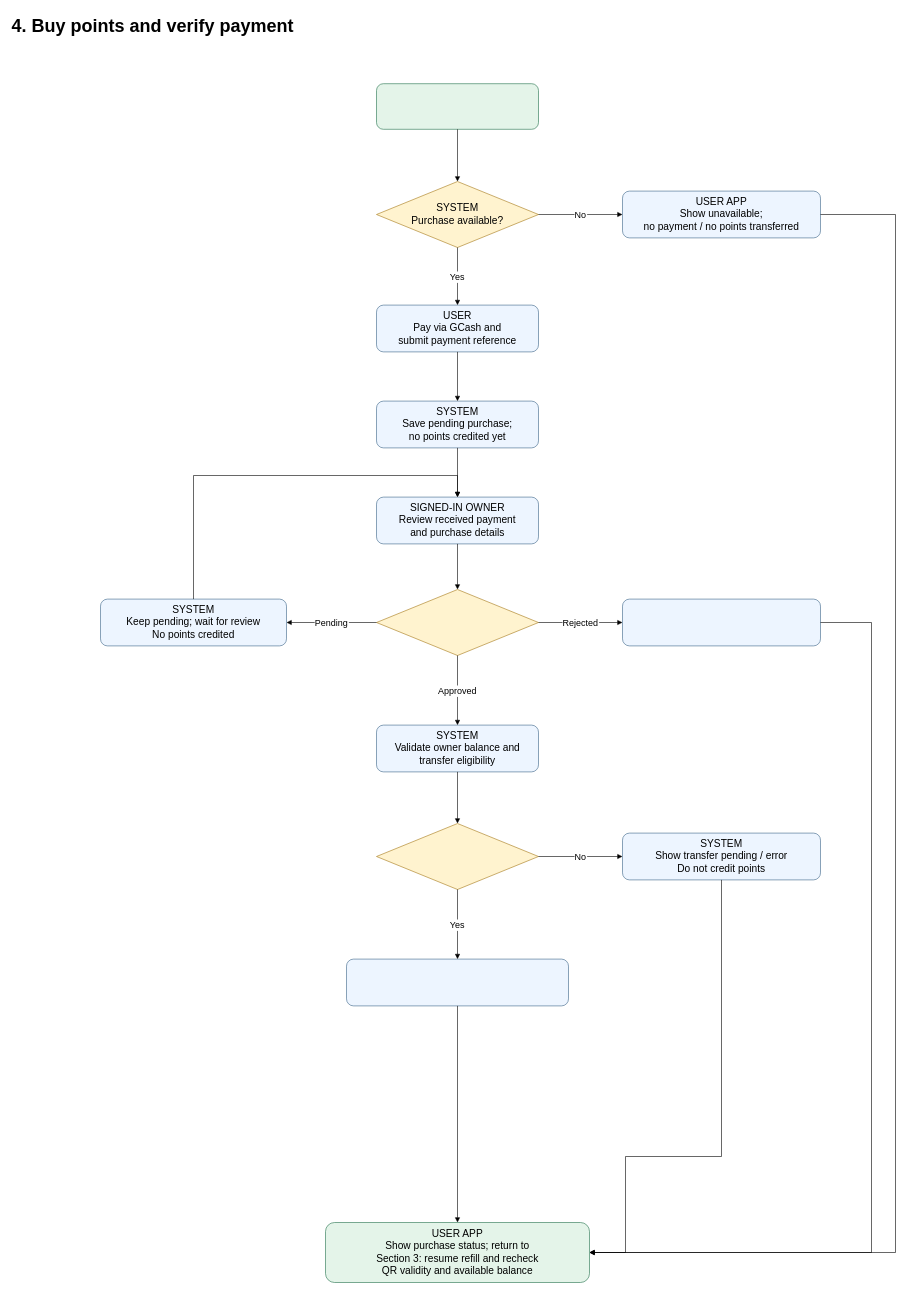
Image size: 914x1293. Some labels were removed from this diagram. Here are the shapes that lost their labels. From the top down, the centre of each, then its label:
At (x=457, y=106): "USER Enter points to purchase".
At (x=457, y=622): "OWNER Review status?".
At (x=721, y=622): "OWNER / SYSTEM Reject payment; notify user No points credited".
At (x=457, y=856): "SYSTEM Transfer allowed?".
At (x=457, y=982): "SYSTEM Transfer owner points to user and record approved purchase once".
